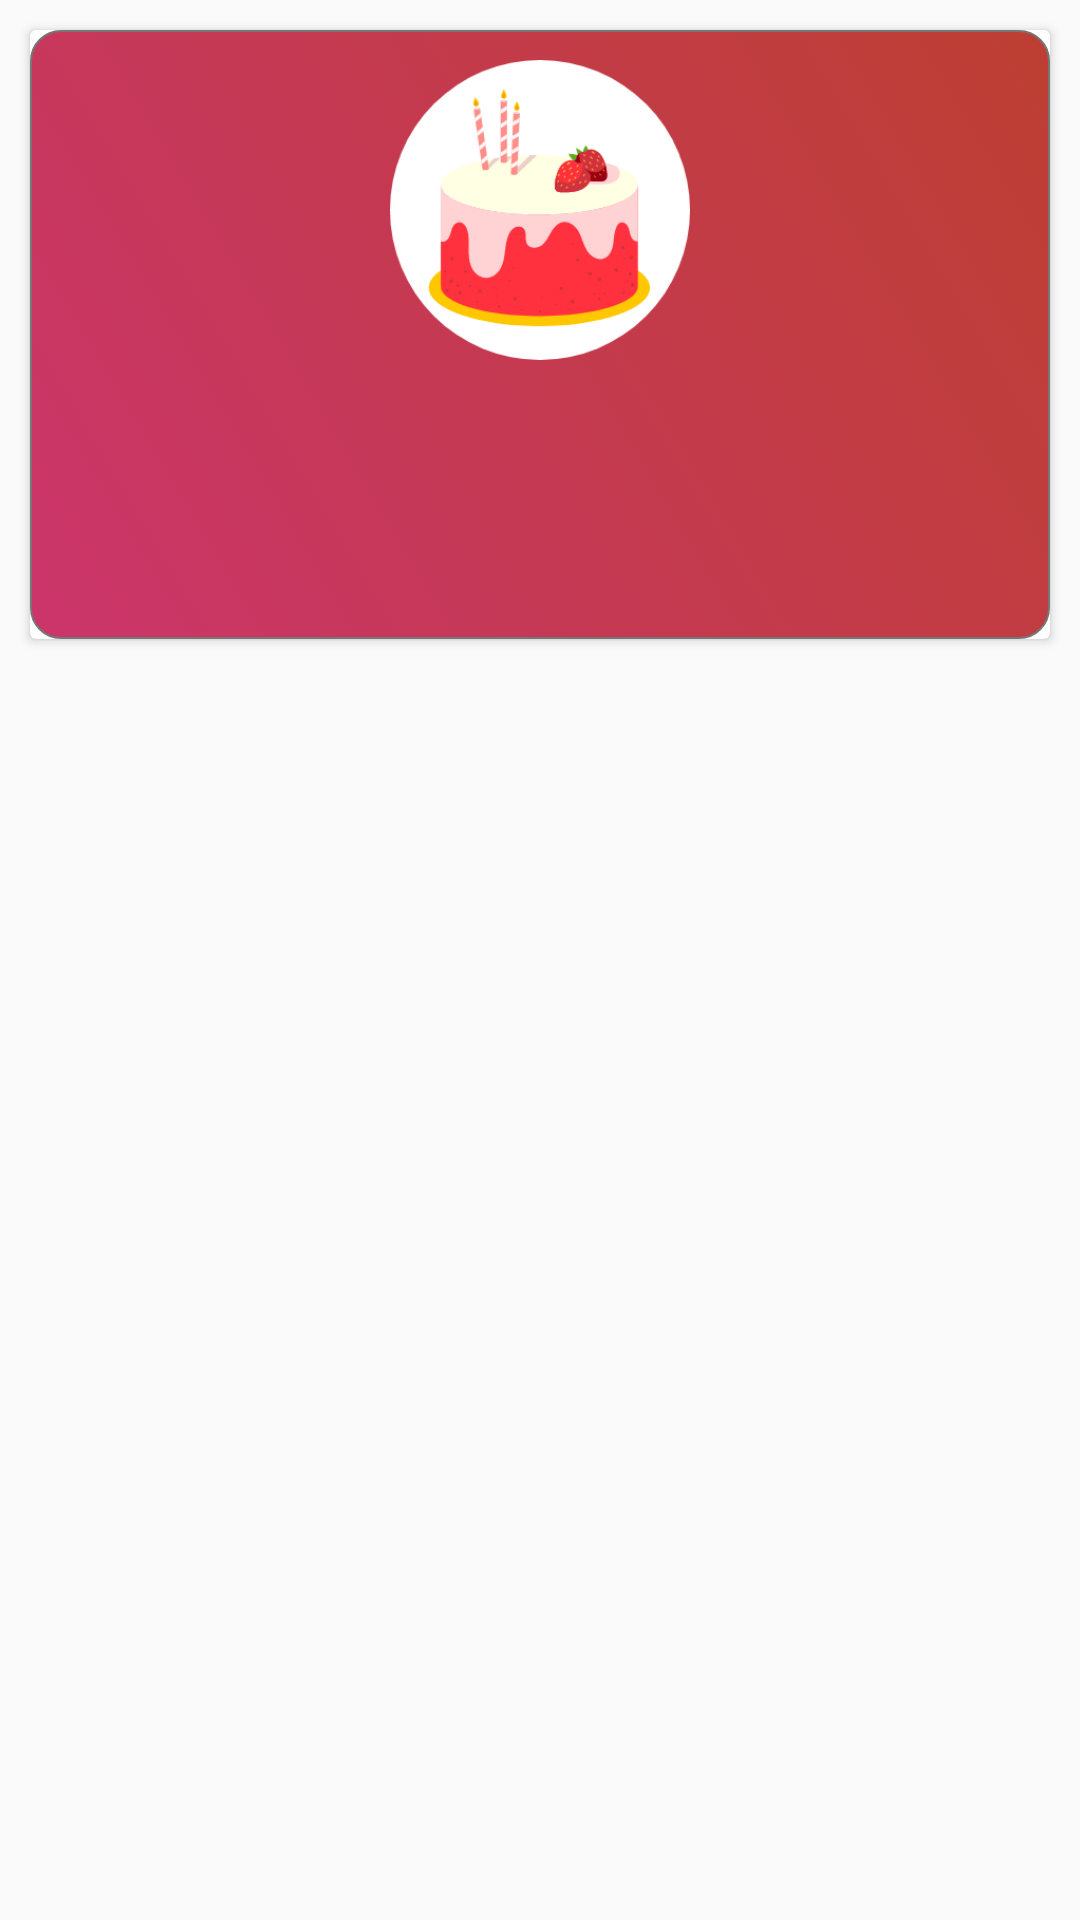

Screen size 1080×1920. Icon name, then its center in pixels as point (x, y):
cake: point (540, 210)
